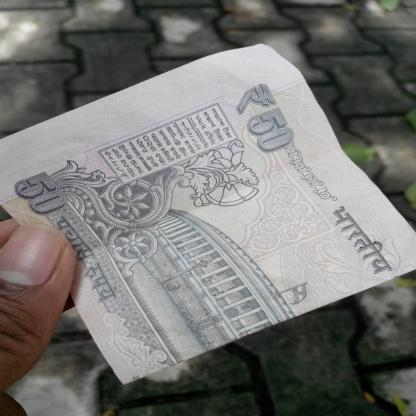Old50Back: (0, 44, 416, 386)
